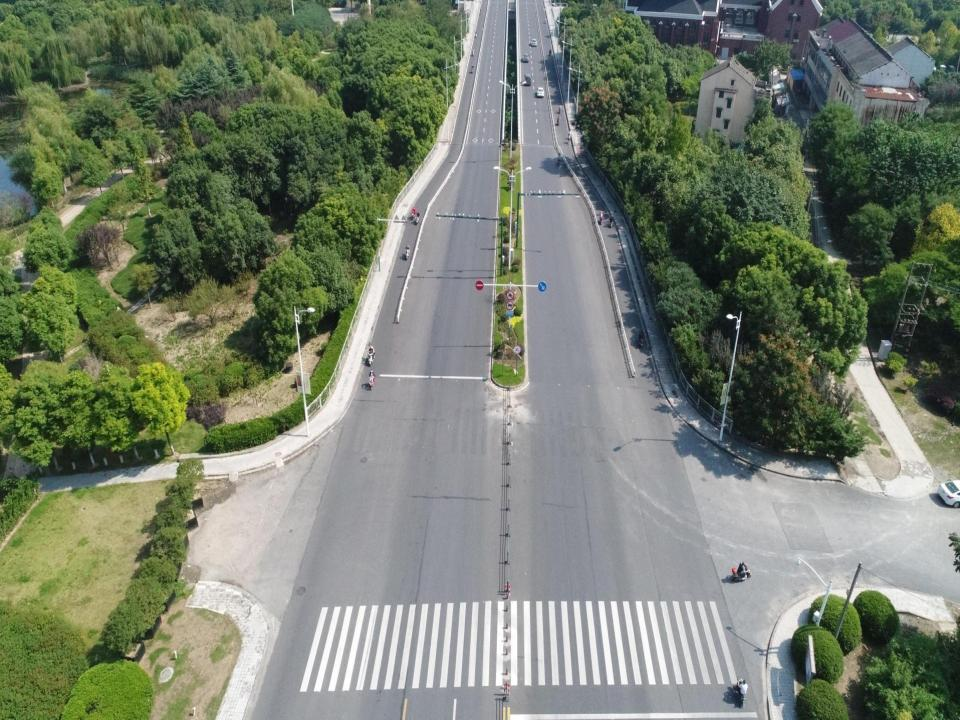car: (940, 476, 959, 509), (537, 86, 545, 97), (523, 52, 529, 64), (531, 38, 537, 46)
van: (523, 76, 531, 86)
